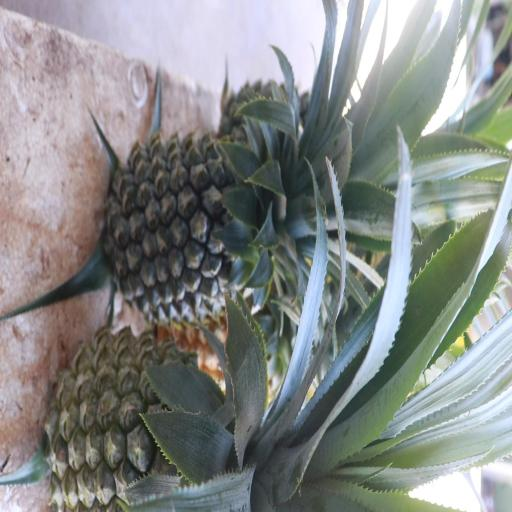------------------------------: (53, 327, 274, 512)
